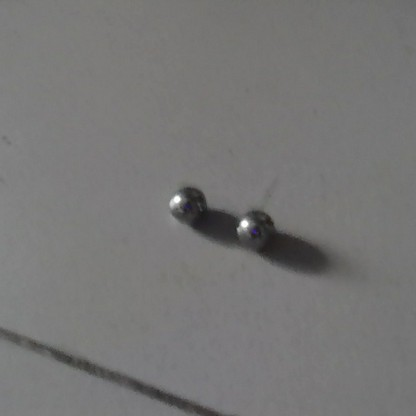ironball: (166, 183, 207, 225), (234, 208, 273, 250)
